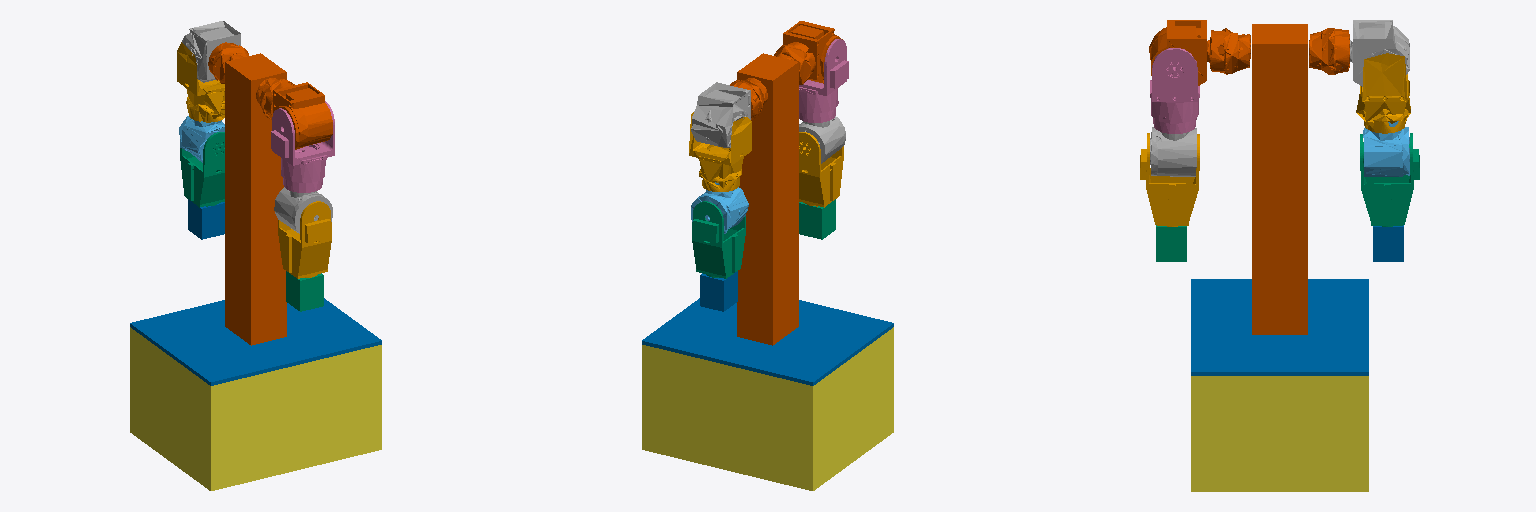
URDF robot description (b1_v1_isaac):
<?xml version="1.0"?>
<!-- 자동 생성: b1/models/v1/scripts/build_v1.py (week05, 박종진) — 손으로 고치지 말 것. 값: assumptions_b1.json -->
<robot name="b1_v1_isaac">
  <mujoco>
    <compiler strippath="false" fusestatic="false" discardvisual="false" balanceinertia="false"/>
  </mujoco>

  <link name="odom"/>
  <joint name="base_x_joint" type="prismatic">
    <parent link="odom"/>
    <child link="base_x_link"/>
    <origin xyz="0 0 0" rpy="0 0 0"/>
    <axis xyz="1 0 0"/>
    <limit lower="-100" upper="100" effort="2000" velocity="1.5"/>
  </joint>
  <link name="base_x_link">
    <inertial>
      <mass value="0.001"/>
      <inertia ixx="1e-7" iyy="1e-7" izz="1e-7" ixy="0" ixz="0" iyz="0"/>
    </inertial>
  </link>
  <joint name="base_y_joint" type="prismatic">
    <parent link="base_x_link"/>
    <child link="base_y_link"/>
    <origin xyz="0 0 0" rpy="0 0 0"/>
    <axis xyz="0 1 0"/>
    <limit lower="-100" upper="100" effort="2000" velocity="1.5"/>
  </joint>
  <link name="base_y_link">
    <inertial>
      <mass value="0.001"/>
      <inertia ixx="1e-7" iyy="1e-7" izz="1e-7" ixy="0" ixz="0" iyz="0"/>
    </inertial>
  </link>
  <joint name="base_yaw_joint" type="continuous">
    <parent link="base_y_link"/>
    <child link="base_link"/>
    <origin xyz="0 0 0" rpy="0 0 0"/>
    <axis xyz="0 0 1"/>
    <limit effort="500" velocity="1.5708"/>
  </joint>
  <link name="base_link">
    <inertial>
      <origin xyz="0 0 0.219" rpy="0 0 0"/>
      <mass value="30"/>
      <inertia ixx="0.84257" iyy="1.11505" izz="1.3864" ixy="0" ixz="0" iyz="0"/>
    </inertial>
    <visual name="base_lower_visual">
      <origin xyz="0 0 0.219"/>
      <geometry><box size="0.576 0.472 0.338"/></geometry>
    </visual>
    <collision name="base_lower_collision">
      <origin xyz="0 0 0.219"/>
      <geometry><box size="0.576 0.472 0.338"/></geometry>
    </collision>
  </link>
  <joint name="base_plate_joint" type="fixed">
    <parent link="base_link"/>
    <child link="base_plate_link"/>
    <origin xyz="0 0 0.394" rpy="0 0 0"/>
  </joint>
  <link name="base_plate_link">
    <inertial>
      <origin xyz="0 0 0" rpy="0 0 0"/>
      <mass value="3.69"/>
      <inertia ixx="0.0685504" iyy="0.102065" izz="0.170527" ixy="0" ixz="0" iyz="0"/>
    </inertial>
    <visual name="base_plate_visual">
      <origin xyz="0 0 0"/>
      <geometry><box size="0.576 0.472 0.012"/></geometry>
    </visual>
    <collision name="base_plate_collision">
      <origin xyz="0 0 0"/>
      <geometry><box size="0.576 0.472 0.012"/></geometry>
    </collision>
  </link>

  <joint name="torso_fixed_joint" type="fixed">
    <parent link="base_link"/>
    <child link="torso_link"/>
    <origin xyz="0 0 1.2" rpy="0 0 0"/>
  </joint>
  <link name="torso_link">
    <inertial>
      <origin xyz="4.68203e-05 2.02102e-06 -0.248686" rpy="0 0 0"/>
      <mass value="12.0634"/>
      <inertia ixx="0.950137" iyy="0.876333" izz="0.0991423" ixy="-2.24738e-09" ixz="-0.000140461" iyz="0.000101804"/>
    </inertial>
    <visual name="torso_actuators_visual">
      <geometry><mesh filename="../meshes/visual/torso_link_visual.stl"/></geometry>
    </visual>
    <collision name="torso_actuators_collision">
      <geometry><mesh filename="../meshes/collision/torso_link_collision.stl"/></geometry>
    </collision>
    <visual name="torso_box_visual">
      <origin xyz="0 0 -0.375"/>
      <geometry><box size="0.12 0.15 0.85"/></geometry>
    </visual>
    <collision name="torso_box_collision">
      <origin xyz="0 0 -0.375"/>
      <geometry><box size="0.12 0.15 0.85"/></geometry>
    </collision>
  </link>
  <joint name="cad_frame_joint" type="fixed">
    <parent link="torso_link"/>
    <child link="cad_frame"/>
    <origin xyz="0 0.11815 0" rpy="1.5708 0 1.5708"/>
  </joint>
  <link name="cad_frame">
    <inertial>
      <mass value="0.001"/>
      <inertia ixx="1e-7" iyy="1e-7" izz="1e-7" ixy="0" ixz="0" iyz="0"/>
    </inertial>
  </link>

  <joint name="left_shoulder_pitch_joint" type="revolute">
    <parent link="torso_link"/>
    <child link="left_shoulder_pitch_link"/>
    <origin xyz="0 0.16975 0" rpy="0 0 0"/>
    <axis xyz="0 1 0"/>
    <limit lower="-3.0" upper="3.0" effort="381.7" velocity="3.0"/>
    <dynamics damping="0.5" friction="0.0"/>
  </joint>
  <link name="left_shoulder_pitch_link">
    <inertial>
      <origin xyz="0.000163 0.082815 -0.011301" rpy="0 0 0"/>
      <mass value="4.39632"/>
      <inertia ixx="0.0166562" iyy="0.0114135" izz="0.0147659" ixy="0.000299613" ixz="-0.000220698" iyz="0.000988489"/>
    </inertial>
    <visual name="left_shoulder_pitch_visual">
      <geometry><mesh filename="../meshes/visual/left_shoulder_pitch_link_visual.stl"/></geometry>
    </visual>
    <collision name="left_shoulder_pitch_collision">
      <geometry><mesh filename="../meshes/collision/left_shoulder_pitch_link_collision.stl"/></geometry>
    </collision>
  </link>
  <joint name="left_shoulder_roll_joint" type="revolute">
    <parent link="left_shoulder_pitch_link"/>
    <child link="left_shoulder_roll_link"/>
    <origin xyz="0 0.1079 -0.02" rpy="0 0 0"/>
    <axis xyz="1 0 0"/>
    <limit lower="-0.28" upper="1.5" effort="381.7" velocity="3.0"/>
    <dynamics damping="0.5" friction="0.0"/>
  </joint>
  <link name="left_shoulder_roll_link">
    <inertial>
      <origin xyz="-0.000215 0.000139 -0.095874" rpy="0 0 0"/>
      <mass value="4.1696"/>
      <inertia ixx="0.0208169" iyy="0.0247167" izz="0.0122861" ixy="3.651e-06" ixz="-0.00102148" iyz="-3.691e-06"/>
    </inertial>
    <visual name="left_shoulder_roll_visual">
      <geometry><mesh filename="../meshes/visual/left_shoulder_roll_link_visual.stl"/></geometry>
    </visual>
    <collision name="left_shoulder_roll_collision">
      <geometry><mesh filename="../meshes/collision/left_shoulder_roll_link_collision.stl"/></geometry>
    </collision>
  </link>
  <joint name="left_shoulder_yaw_joint" type="revolute">
    <parent link="left_shoulder_roll_link"/>
    <child link="left_shoulder_yaw_link"/>
    <origin xyz="0 0 -0.1823" rpy="0 0 -1.5708"/>
    <axis xyz="0 0 1"/>
    <limit lower="-2.5" upper="2.5" effort="381.7" velocity="3.0"/>
    <dynamics damping="0.5" friction="0.0"/>
  </joint>
  <link name="left_shoulder_yaw_link">
    <inertial>
      <origin xyz="-0.00379999 -0.001658 -0.077168" rpy="0 0 0"/>
      <mass value="3.33643"/>
      <inertia ixx="0.00984427" iyy="0.0100491" izz="0.00641762" ixy="-1.2339e-05" ixz="-0.000184265" iyz="-1.229e-06"/>
    </inertial>
    <visual name="left_shoulder_yaw_visual">
      <geometry><mesh filename="../meshes/visual/left_shoulder_yaw_link_visual.stl"/></geometry>
    </visual>
    <collision name="left_shoulder_yaw_collision">
      <geometry><mesh filename="../meshes/collision/left_shoulder_yaw_link_collision.stl"/></geometry>
    </collision>
  </link>
  <joint name="left_elbow_joint" type="revolute">
    <parent link="left_shoulder_yaw_link"/>
    <child link="left_elbow_link"/>
    <origin xyz="0 0 -0.0938" rpy="0 0 0"/>
    <axis xyz="1 0 0"/>
    <limit lower="-1.83" upper="1.83" effort="181.5" velocity="3.0"/>
    <dynamics damping="0.5" friction="0.0"/>
  </joint>
  <link name="left_elbow_link">
    <inertial>
      <origin xyz="-0.00366599 -0.001732 -0.079298" rpy="0 0 0"/>
      <mass value="2.26772"/>
      <inertia ixx="0.0144908" iyy="0.0178861" izz="0.00821005" ixy="-9.25e-07" ixz="-0.000888535" iyz="-8.733e-06"/>
    </inertial>
    <visual name="left_elbow_visual">
      <geometry><mesh filename="../meshes/visual/left_elbow_link_visual.stl"/></geometry>
    </visual>
    <collision name="left_elbow_collision">
      <geometry><mesh filename="../meshes/collision/left_elbow_link_collision.stl"/></geometry>
    </collision>
  </link>
  <joint name="left_tool0_joint" type="fixed">
    <parent link="left_elbow_link"/>
    <child link="left_tool0"/>
    <origin xyz="-0.009 0 -0.1989" rpy="0 0 0"/>
  </joint>
  <link name="left_tool0">
    <inertial>
      <mass value="0.001"/>
      <inertia ixx="1e-7" iyy="1e-7" izz="1e-7" ixy="0" ixz="0" iyz="0"/>
    </inertial>
  </link>
  <joint name="left_gripper_joint" type="fixed">
    <parent link="left_tool0"/>
    <child link="left_gripper_link"/>
    <origin xyz="0 0 0" rpy="0 0 0"/>
  </joint>
  <link name="left_gripper_link">
    <inertial>
      <origin xyz="0 0 -0.05" rpy="0 0 0"/>
      <mass value="0.5"/>
      <inertia ixx="0.000683333" iyy="0.000683333" izz="0.000533333" ixy="0" ixz="0" iyz="0"/>
    </inertial>
    <visual name="left_gripper_visual">
      <origin xyz="0 0 -0.05"/>
      <geometry><box size="0.08 0.08 0.1"/></geometry>
    </visual>
    <collision name="left_gripper_collision">
      <origin xyz="0 0 -0.05"/>
      <geometry><box size="0.08 0.08 0.1"/></geometry>
    </collision>
  </link>

  <joint name="right_shoulder_pitch_joint" type="revolute">
    <parent link="torso_link"/>
    <child link="right_shoulder_pitch_link"/>
    <origin xyz="0 -0.16975 0" rpy="0 0 0"/>
    <axis xyz="0 1 0"/>
    <limit lower="-3.0" upper="3.0" effort="381.7" velocity="3.0"/>
    <dynamics damping="0.5" friction="0.0"/>
  </joint>
  <link name="right_shoulder_pitch_link">
    <inertial>
      <origin xyz="0.000163 -0.082815 -0.011301" rpy="0 0 0"/>
      <mass value="4.39632"/>
      <inertia ixx="0.0166562" iyy="0.0114135" izz="0.0147659" ixy="-0.000299613" ixz="-0.000220698" iyz="-0.000988489"/>
    </inertial>
    <visual name="right_shoulder_pitch_visual">
      <geometry><mesh filename="../meshes/visual/right_shoulder_pitch_link_visual.stl"/></geometry>
    </visual>
    <collision name="right_shoulder_pitch_collision">
      <geometry><mesh filename="../meshes/collision/right_shoulder_pitch_link_collision.stl"/></geometry>
    </collision>
  </link>
  <joint name="right_shoulder_roll_joint" type="revolute">
    <parent link="right_shoulder_pitch_link"/>
    <child link="right_shoulder_roll_link"/>
    <origin xyz="0 -0.1079 -0.02" rpy="0 0 0"/>
    <axis xyz="-1 0 0"/>
    <limit lower="-0.28" upper="1.5" effort="381.7" velocity="3.0"/>
    <dynamics damping="0.5" friction="0.0"/>
  </joint>
  <link name="right_shoulder_roll_link">
    <inertial>
      <origin xyz="-0.000215 -0.000139 -0.095874" rpy="0 0 0"/>
      <mass value="4.1696"/>
      <inertia ixx="0.0208169" iyy="0.0247167" izz="0.0122861" ixy="-3.651e-06" ixz="-0.00102148" iyz="3.691e-06"/>
    </inertial>
    <visual name="right_shoulder_roll_visual">
      <geometry><mesh filename="../meshes/visual/right_shoulder_roll_link_visual.stl"/></geometry>
    </visual>
    <collision name="right_shoulder_roll_collision">
      <geometry><mesh filename="../meshes/collision/right_shoulder_roll_link_collision.stl"/></geometry>
    </collision>
  </link>
  <joint name="right_shoulder_yaw_joint" type="revolute">
    <parent link="right_shoulder_roll_link"/>
    <child link="right_shoulder_yaw_link"/>
    <origin xyz="0 0 -0.1823" rpy="0 0 1.5708"/>
    <axis xyz="0 0 -1"/>
    <limit lower="-2.5" upper="2.5" effort="381.7" velocity="3.0"/>
    <dynamics damping="0.5" friction="0.0"/>
  </joint>
  <link name="right_shoulder_yaw_link">
    <inertial>
      <origin xyz="-0.00379999 0.001658 -0.077168" rpy="0 0 0"/>
      <mass value="3.33643"/>
      <inertia ixx="0.00984427" iyy="0.0100491" izz="0.00641762" ixy="1.2339e-05" ixz="-0.000184265" iyz="1.229e-06"/>
    </inertial>
    <visual name="right_shoulder_yaw_visual">
      <geometry><mesh filename="../meshes/visual/right_shoulder_yaw_link_visual.stl"/></geometry>
    </visual>
    <collision name="right_shoulder_yaw_collision">
      <geometry><mesh filename="../meshes/collision/right_shoulder_yaw_link_collision.stl"/></geometry>
    </collision>
  </link>
  <joint name="right_elbow_joint" type="revolute">
    <parent link="right_shoulder_yaw_link"/>
    <child link="right_elbow_link"/>
    <origin xyz="0 0 -0.0938" rpy="0 0 0"/>
    <axis xyz="-1 0 0"/>
    <limit lower="-1.83" upper="1.83" effort="181.5" velocity="3.0"/>
    <dynamics damping="0.5" friction="0.0"/>
  </joint>
  <link name="right_elbow_link">
    <inertial>
      <origin xyz="-0.00366599 0.001732 -0.079298" rpy="0 0 0"/>
      <mass value="2.26772"/>
      <inertia ixx="0.0144908" iyy="0.0178861" izz="0.00821005" ixy="9.25e-07" ixz="-0.000888535" iyz="8.733e-06"/>
    </inertial>
    <visual name="right_elbow_visual">
      <geometry><mesh filename="../meshes/visual/right_elbow_link_visual.stl"/></geometry>
    </visual>
    <collision name="right_elbow_collision">
      <geometry><mesh filename="../meshes/collision/right_elbow_link_collision.stl"/></geometry>
    </collision>
  </link>
  <joint name="right_tool0_joint" type="fixed">
    <parent link="right_elbow_link"/>
    <child link="right_tool0"/>
    <origin xyz="-0.009 0 -0.1989" rpy="0 0 0"/>
  </joint>
  <link name="right_tool0">
    <inertial>
      <mass value="0.001"/>
      <inertia ixx="1e-7" iyy="1e-7" izz="1e-7" ixy="0" ixz="0" iyz="0"/>
    </inertial>
  </link>
  <joint name="right_gripper_joint" type="fixed">
    <parent link="right_tool0"/>
    <child link="right_gripper_link"/>
    <origin xyz="0 0 0" rpy="0 0 0"/>
  </joint>
  <link name="right_gripper_link">
    <inertial>
      <origin xyz="0 0 -0.05" rpy="0 0 0"/>
      <mass value="0.5"/>
      <inertia ixx="0.000683333" iyy="0.000683333" izz="0.000533333" ixy="0" ixz="0" iyz="0"/>
    </inertial>
    <visual name="right_gripper_visual">
      <origin xyz="0 0 -0.05"/>
      <geometry><box size="0.08 0.08 0.1"/></geometry>
    </visual>
    <collision name="right_gripper_collision">
      <origin xyz="0 0 -0.05"/>
      <geometry><box size="0.08 0.08 0.1"/></geometry>
    </collision>
  </link>

</robot>

--- Facts derived from the render (not from the file) ---
Views: 3 orthographic renders of the robot side by side, from view 1: azimuth 30°, elevation 25°; view 2: azimuth 150°, elevation 25°; view 3: azimuth 270°, elevation 25°.
Robot: b1_v1_isaac — 19 links, 18 joints (8 revolute, 1 continuous, 2 prismatic, 7 fixed); root link odom; default pose: all joints at 0.
Visible links, largest first — view 1: base_link, torso_link, base_plate_link, right_elbow_link, right_shoulder_roll_link, right_shoulder_pitch_link, left_elbow_link, left_shoulder_roll_link, left_shoulder_pitch_link, right_shoulder_yaw_link, right_gripper_link, left_gripper_link (+1 smaller); view 2: base_link, torso_link, base_plate_link, left_elbow_link, left_shoulder_pitch_link, left_shoulder_roll_link, right_elbow_link, right_shoulder_roll_link, right_shoulder_pitch_link, left_gripper_link, left_shoulder_yaw_link, right_gripper_link (+1 smaller); view 3: torso_link, base_link, base_plate_link, right_shoulder_roll_link, left_shoulder_roll_link, left_elbow_link, right_elbow_link, left_shoulder_pitch_link, left_shoulder_yaw_link, right_shoulder_yaw_link, right_shoulder_pitch_link, left_gripper_link (+1 smaller).
Link boxes in pixels (x1,y1,x2,y2): base_link: (130, 327, 381, 490); torso_link: (208, 42, 294, 345); base_plate_link: (130, 298, 381, 385); right_elbow_link: (278, 201, 331, 278); right_shoulder_roll_link: (271, 101, 334, 192); right_shoulder_pitch_link: (273, 82, 332, 149); left_elbow_link: (180, 132, 224, 207); left_shoulder_roll_link: (177, 42, 224, 122); left_shoulder_pitch_link: (182, 21, 240, 82); right_shoulder_yaw_link: (274, 187, 332, 233); right_gripper_link: (286, 271, 323, 311); left_gripper_link: (188, 199, 224, 239); base_link: (642, 327, 893, 490); torso_link: (730, 42, 815, 345); base_plate_link: (642, 298, 893, 385); left_elbow_link: (692, 201, 745, 278); left_shoulder_pitch_link: (691, 82, 750, 147); left_shoulder_roll_link: (689, 112, 751, 191); right_elbow_link: (799, 132, 843, 207); right_shoulder_roll_link: (799, 39, 848, 122); right_shoulder_pitch_link: (783, 21, 842, 83); left_gripper_link: (700, 271, 737, 311); left_shoulder_yaw_link: (691, 182, 748, 233); right_gripper_link: (799, 199, 835, 239); torso_link: (1210, 24, 1349, 334); base_link: (1191, 376, 1368, 491); base_plate_link: (1191, 279, 1368, 375); right_shoulder_roll_link: (1150, 48, 1199, 133); left_shoulder_roll_link: (1356, 53, 1410, 133); left_elbow_link: (1360, 133, 1419, 226); right_elbow_link: (1140, 133, 1199, 226); left_shoulder_pitch_link: (1342, 20, 1409, 86); left_shoulder_yaw_link: (1363, 121, 1409, 176); right_shoulder_yaw_link: (1150, 127, 1196, 176); right_shoulder_pitch_link: (1149, 20, 1209, 85); left_gripper_link: (1373, 225, 1403, 261).
Size in the robot's own frame: 0.576 by 0.7392 by 1.22 metres.
Meshes: 9 distinct files referenced, 9 mesh visuals loaded (9 binary STL).
